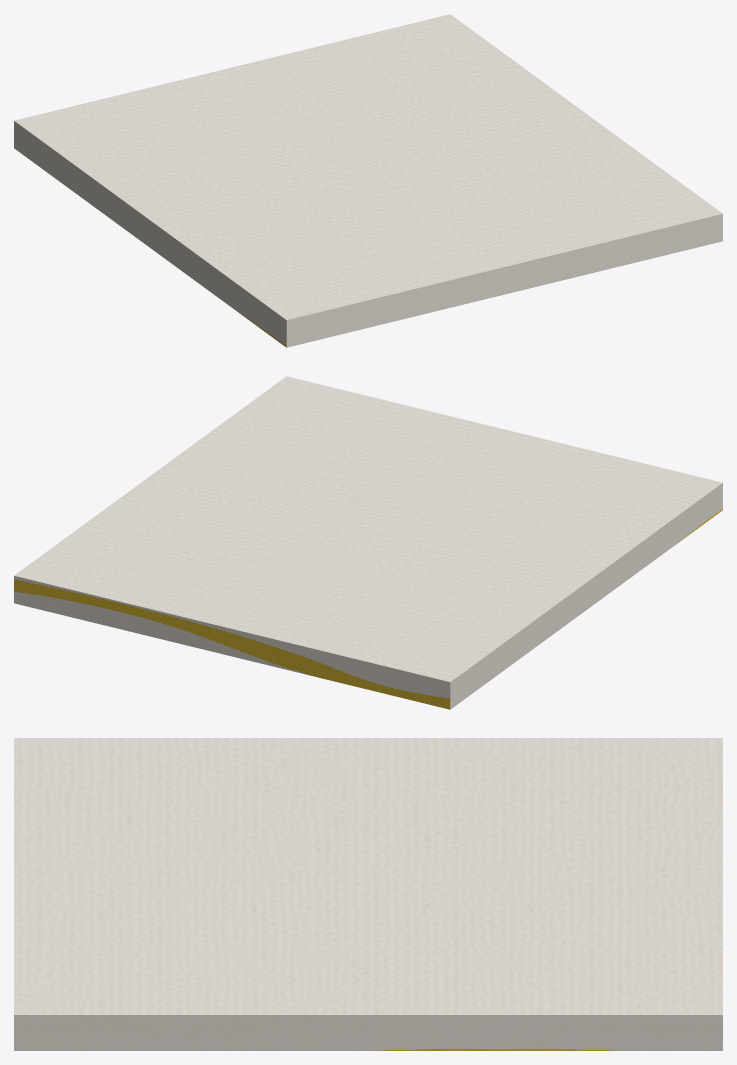
Rendered from techo.obj.
3 renders of one model, top to bottom at view 1: azimuth 30°, elevation 25°; view 2: azimuth 150°, elevation 25°; view 3: azimuth 270°, elevation 25°, orthographic. The views are drawn at different scales.
Visible parts, largest first — view 1: pCube10; view 2: pCube10; view 3: pCube10.
Part boxes in pixels (x1,y1,x2,y2): pCube10: (14, 14, 722, 347); pCube10: (14, 376, 722, 709); pCube10: (14, 738, 722, 1050).
Size of the model in its own units: 8.25 by 0.5705 by 8.92.
3 materials, 3 textured.
